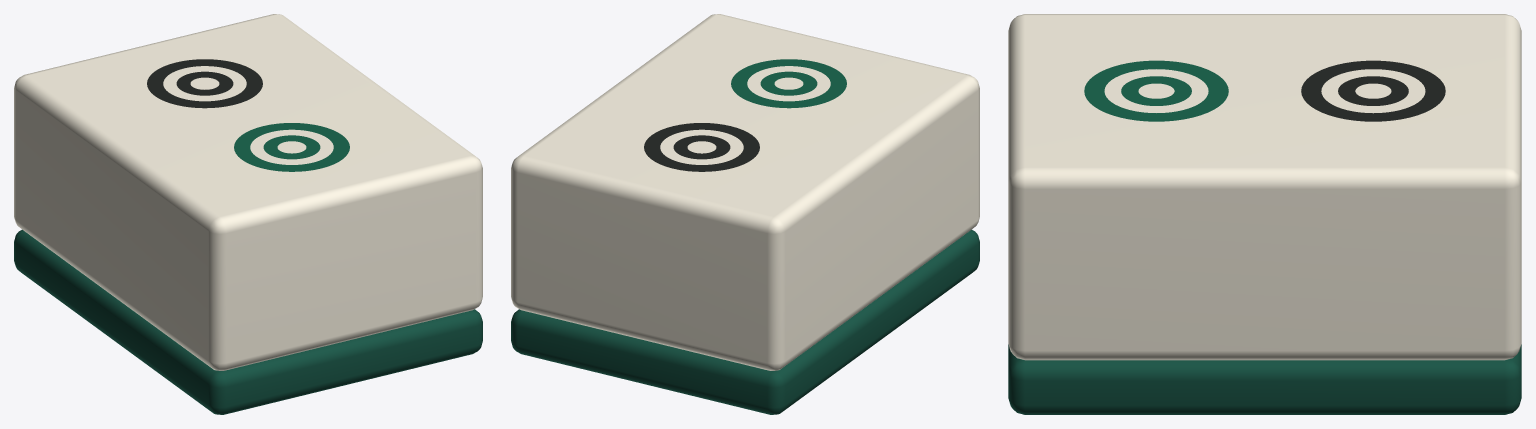
File: tong-02.glb
3 renders of one model, left to right at view 1: azimuth 30°, elevation 25°; view 2: azimuth 150°, elevation 25°; view 3: azimuth 270°, elevation 25°, orthographic. The views are drawn at different scales.
Parts seen in each view (by area): view 1: tong-02_ivory, tong-02_back, tong-02_face_inlays; view 2: tong-02_ivory, tong-02_back, tong-02_face_inlays; view 3: tong-02_ivory, tong-02_back, tong-02_face_inlays.
Boxes of the visible parts, x1=… form: tong-02_ivory: x1=14, y1=14, x2=482, y2=370; tong-02_back: x1=14, y1=229, x2=482, y2=414; tong-02_face_inlays: x1=147, y1=59, x2=349, y2=171; tong-02_ivory: x1=511, y1=14, x2=979, y2=370; tong-02_back: x1=511, y1=229, x2=979, y2=414; tong-02_face_inlays: x1=644, y1=59, x2=846, y2=171; tong-02_ivory: x1=1008, y1=14, x2=1521, y2=360; tong-02_back: x1=1008, y1=344, x2=1521, y2=414; tong-02_face_inlays: x1=1084, y1=60, x2=1445, y2=121.
Bounding box in the file's own units: 0.026 × 0.018 × 0.034.
